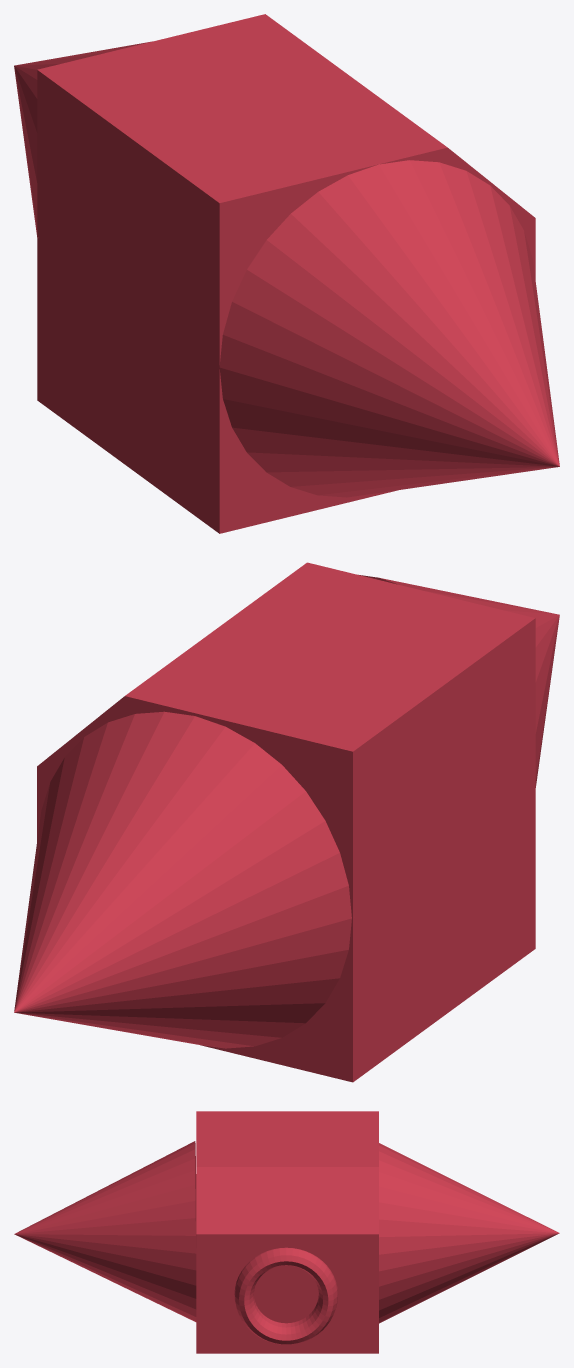
The model's file is demon.obj.
3 views of the same model, one above another, from view 1: azimuth 30°, elevation 25°; view 2: azimuth 150°, elevation 25°; view 3: azimuth 270°, elevation 25° (orthographic). The views are drawn at different scales.
Parts seen in each view (by area): view 1: Cube; view 2: Cube; view 3: Cube.
Part boxes in pixels (x1,y1,x2,y2): Cube: (14, 14, 559, 533); Cube: (14, 562, 559, 1082); Cube: (14, 1111, 559, 1353).
Bounding box in the file's own units: 2.23 × 2.02 × 5.98.
